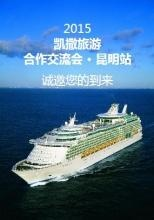youlun: (10, 103, 144, 186)
